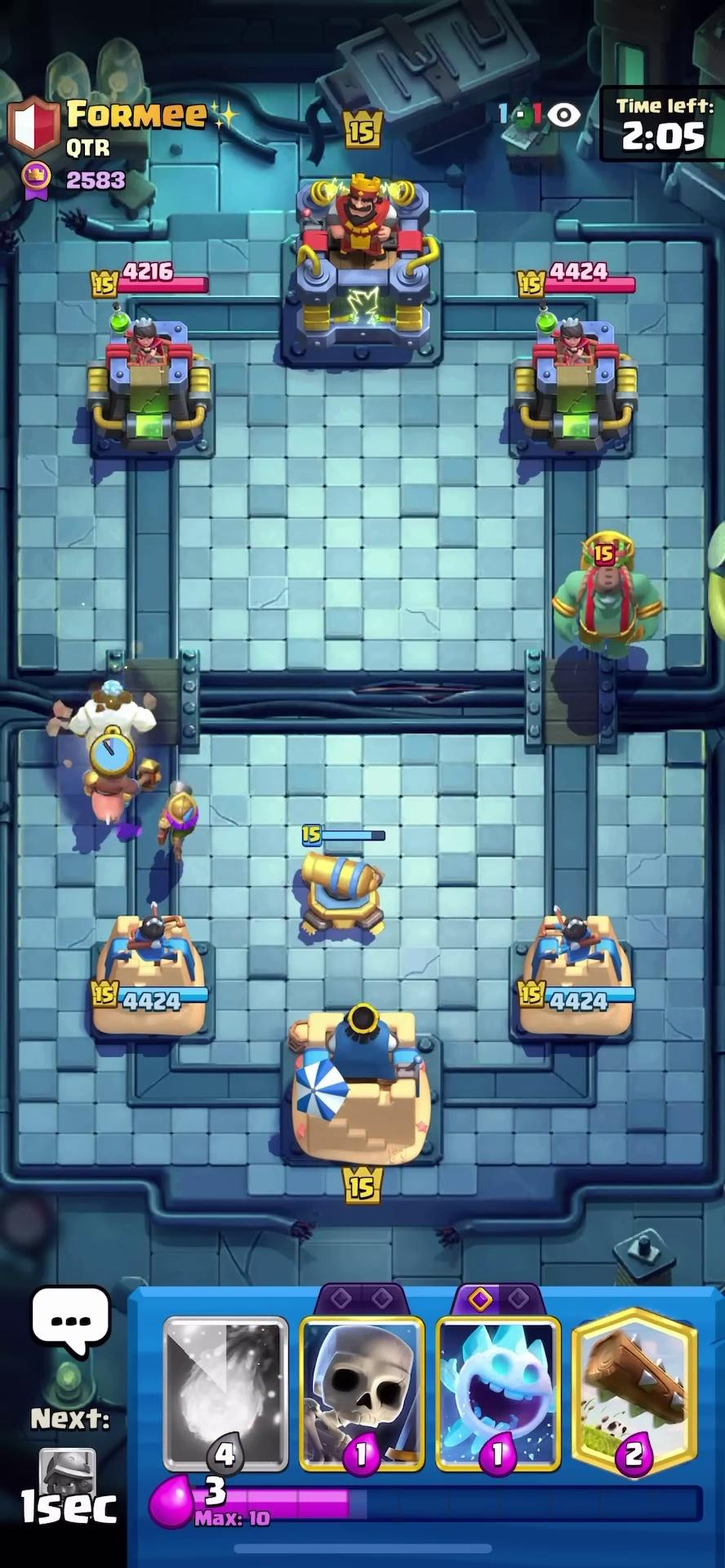cannon: (288, 823, 402, 939)
hog_rider: (71, 741, 155, 827)
ice_golem: (63, 666, 163, 749)
musketeer: (137, 768, 218, 849)
